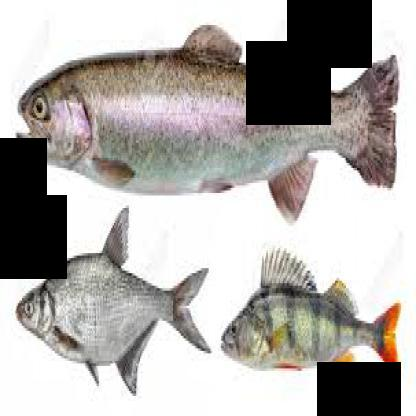fish: (14, 23, 398, 223)
